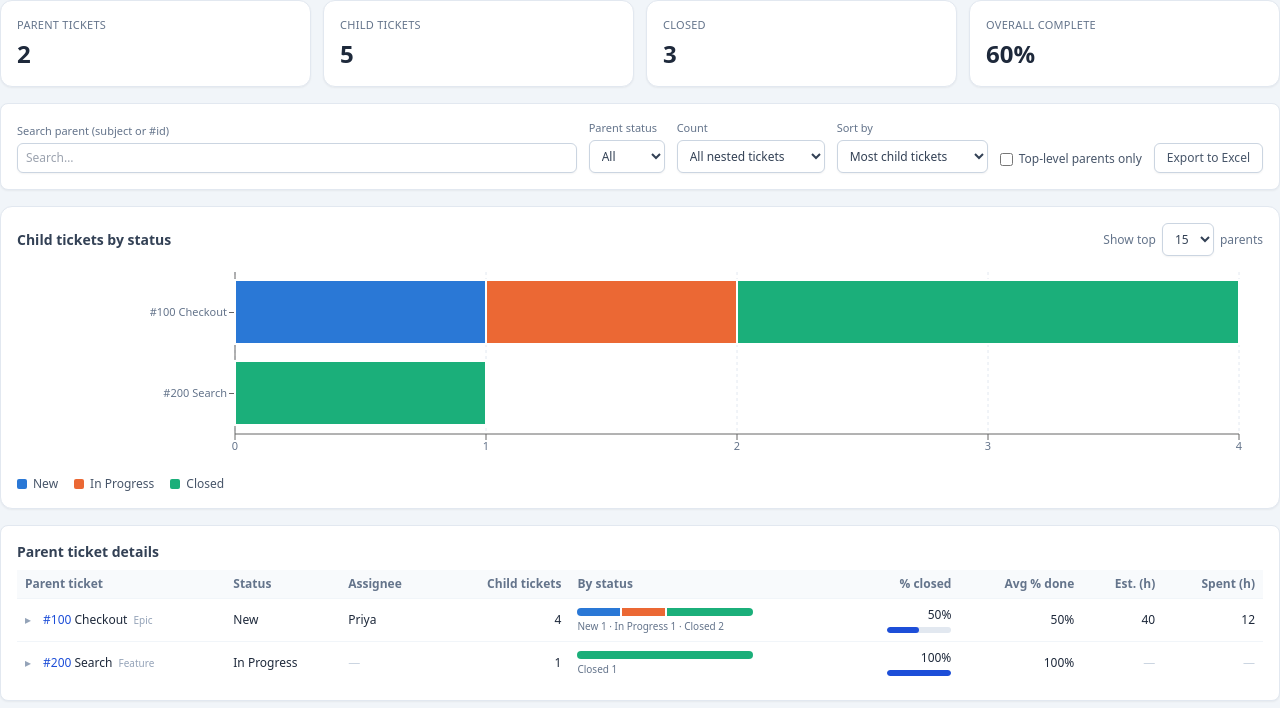
ParentProgressPanel › expands a parent to list its child tickets with their status
This screenshot has width=1280, height=708.
Check: the text "Payment form" is not shown
Click the row that starts with "Checkout" at (640, 620), box [17, 598, 1263, 642]
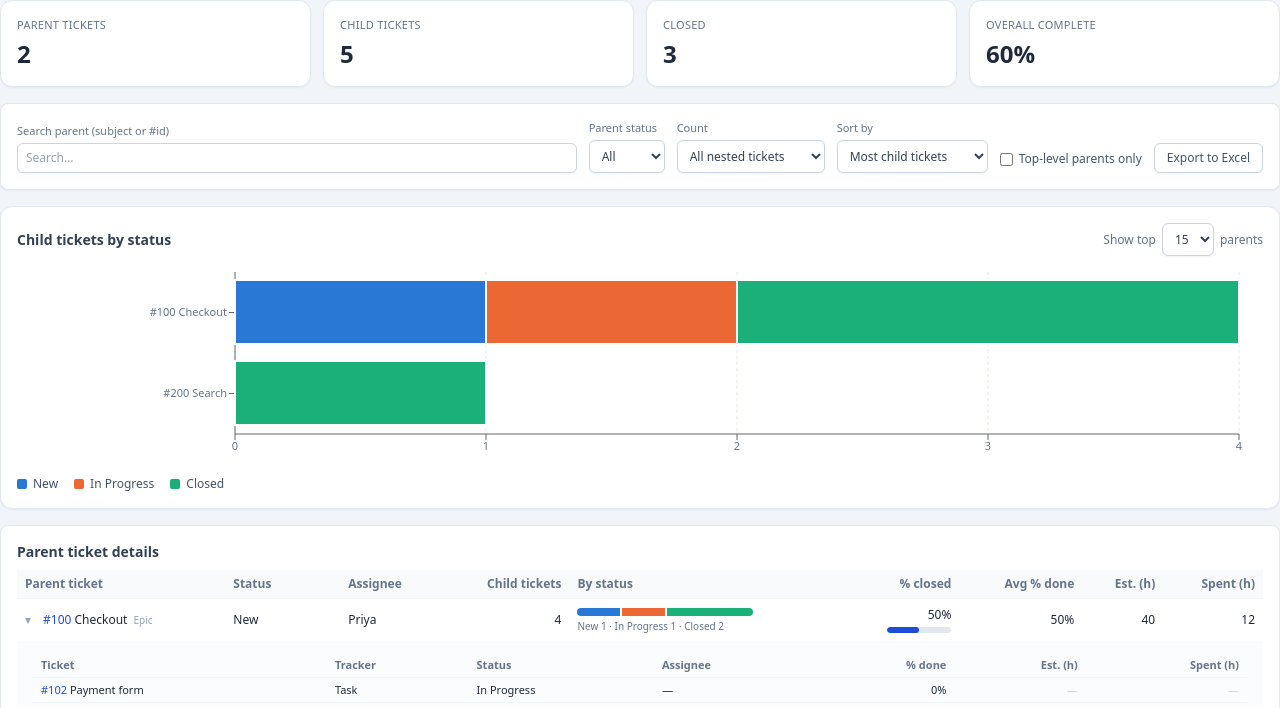
Check: the text "#102 Payment form" is shown, box [33, 678, 327, 702]
Click the row that starts with "Checkout" at (640, 620), box [17, 598, 1263, 641]
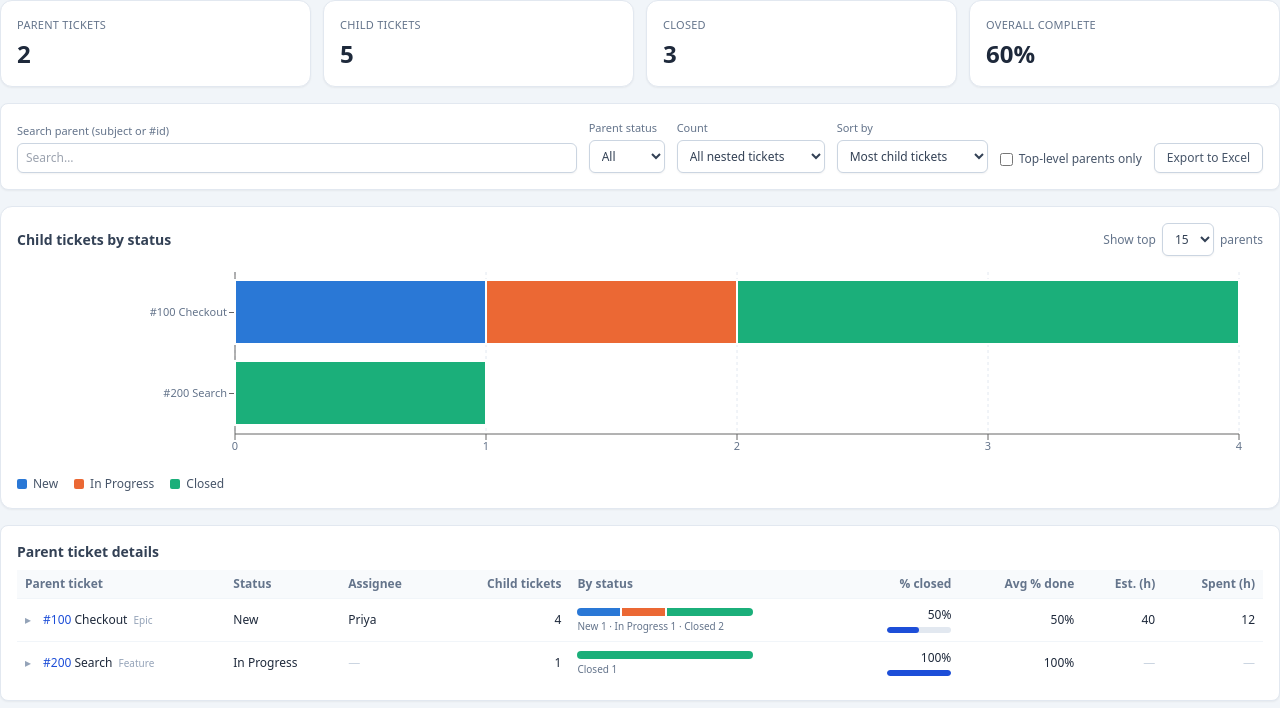
Check: the text "Payment form" is gone
